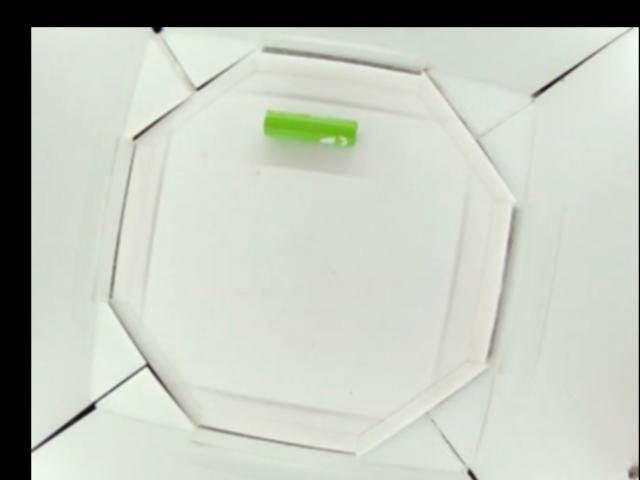Battery: (262, 109, 358, 143)
